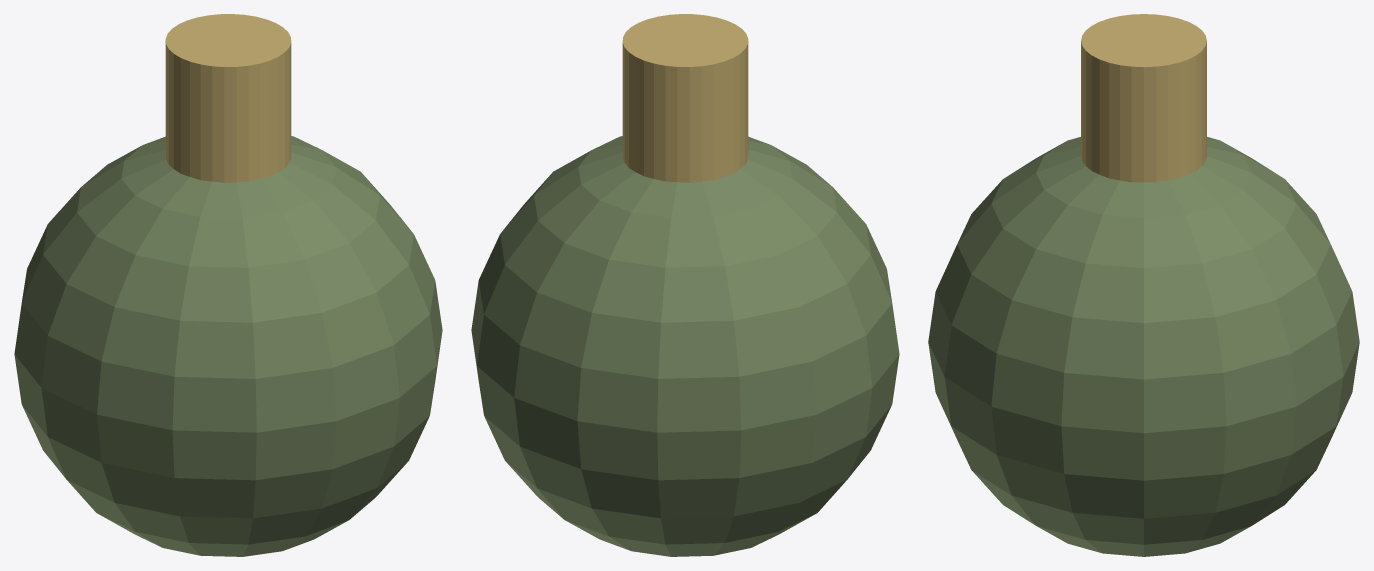
File: grenade.glb
3 renders of one model, left to right at view 1: azimuth 30°, elevation 25°; view 2: azimuth 150°, elevation 25°; view 3: azimuth 270°, elevation 25°, orthographic.
Visible parts, largest first — view 1: Grenade, Fuse; view 2: Grenade, Fuse; view 3: Grenade, Fuse.
Boxes of the visible parts, box(x1,y1,x2,y2) form: Grenade: box(14, 136, 442, 556); Fuse: box(165, 14, 291, 182); Grenade: box(471, 136, 899, 556); Fuse: box(622, 14, 748, 182); Grenade: box(928, 137, 1359, 556); Fuse: box(1081, 14, 1206, 182).
Size of the model in its own units: 0.24 by 0.305 by 0.24.
